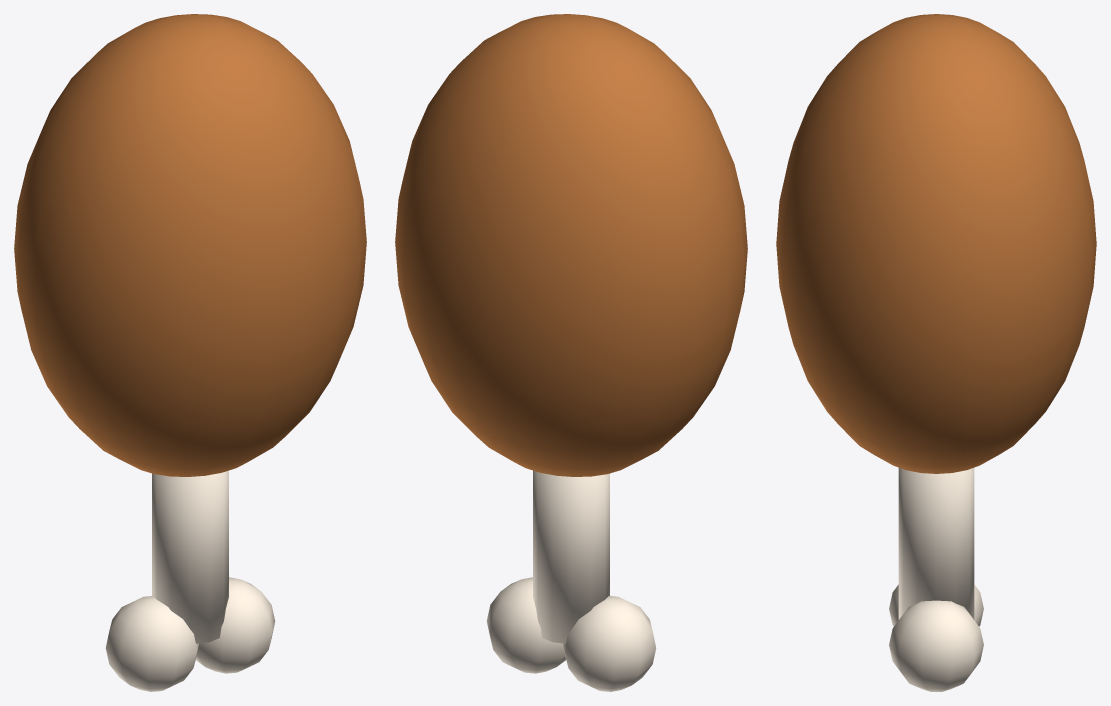
The model's file is drumstick.glb.
3 renders of one model, left to right at view 1: azimuth 30°, elevation 25°; view 2: azimuth 150°, elevation 25°; view 3: azimuth 270°, elevation 25°, orthographic.
Parts seen in each view (by area): view 1: Drumstick; view 2: Drumstick; view 3: Drumstick.
Part boxes in pixels (box(x1,y1,x2,y2)): Drumstick: box(14, 14, 366, 691); Drumstick: box(395, 14, 747, 691); Drumstick: box(776, 14, 1096, 691).
Size of the model in its own units: 0.15 by 0.2993 by 0.135.
